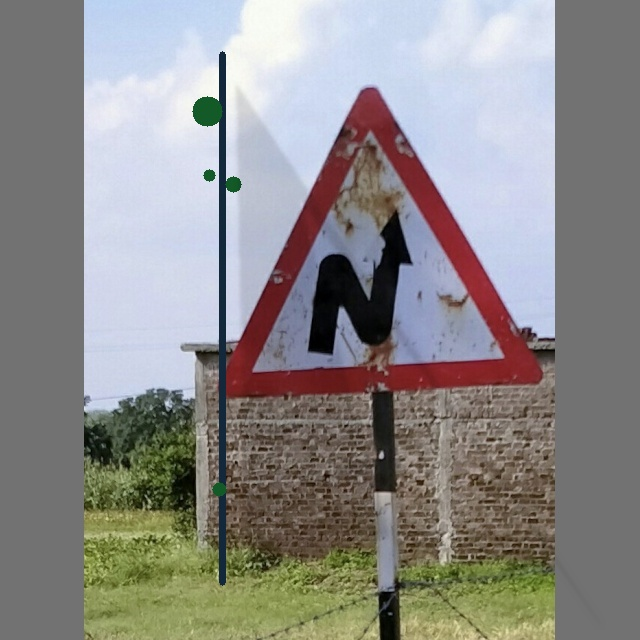Right_Reverse_Bend: (212, 87, 544, 386)
